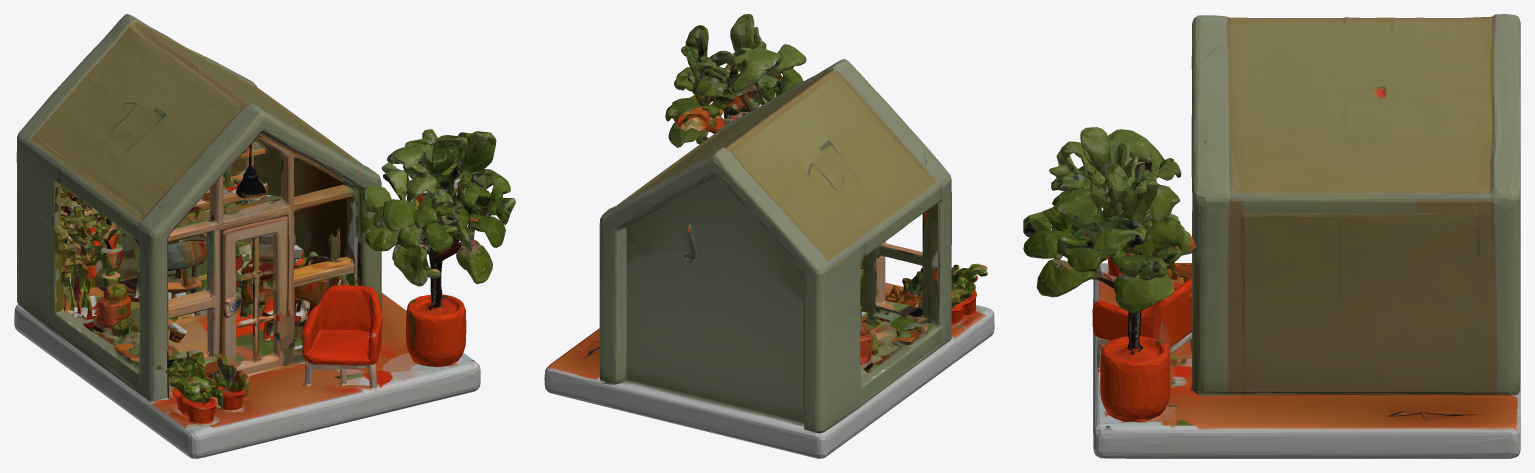
File: Cozy Greenhouse Model.glb
3 renders of one model, left to right at view 1: azimuth 30°, elevation 25°; view 2: azimuth 150°, elevation 25°; view 3: azimuth 270°, elevation 25°, orthographic. The views are drawn at different scales.
Visible parts, largest first — view 1: demo_textured.obj; view 2: demo_textured.obj; view 3: demo_textured.obj.
Boxes of the visible parts, x1,y1,x2,y2 form: demo_textured.obj: (14,14,515,458); demo_textured.obj: (544,14,994,458); demo_textured.obj: (1023,14,1520,458).
Bounding box in the file's own units: 1.77 × 1.52 × 1.98.
Materials: 1 (1 with a texture image).
